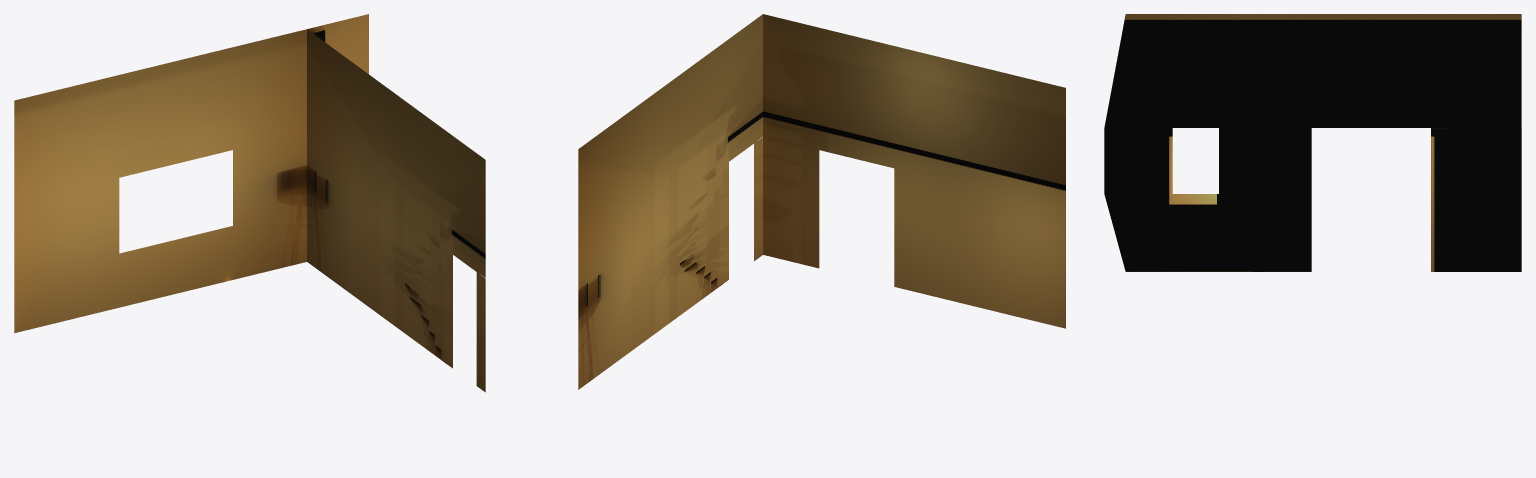
The model's file is stanza1.glb.
3 renders of one model, left to right at view 1: azimuth 30°, elevation 25°; view 2: azimuth 150°, elevation 25°; view 3: azimuth 270°, elevation 25°, orthographic. The views are drawn at different scales.
Visible parts, largest first — view 1: 3D.2-Mat.121; view 2: 3D.2-Mat.121; view 3: 3D.2-Mat.121.
Boxes of the visible parts, <box> form: 3D.2-Mat.121: <box>14,14,485,392</box>; 3D.2-Mat.121: <box>578,14,1065,389</box>; 3D.2-Mat.121: <box>1104,14,1521,271</box>.
Bounding box in the file's own units: 68.93 × 43.21 × 63.32.
1 material, 1 textured.
